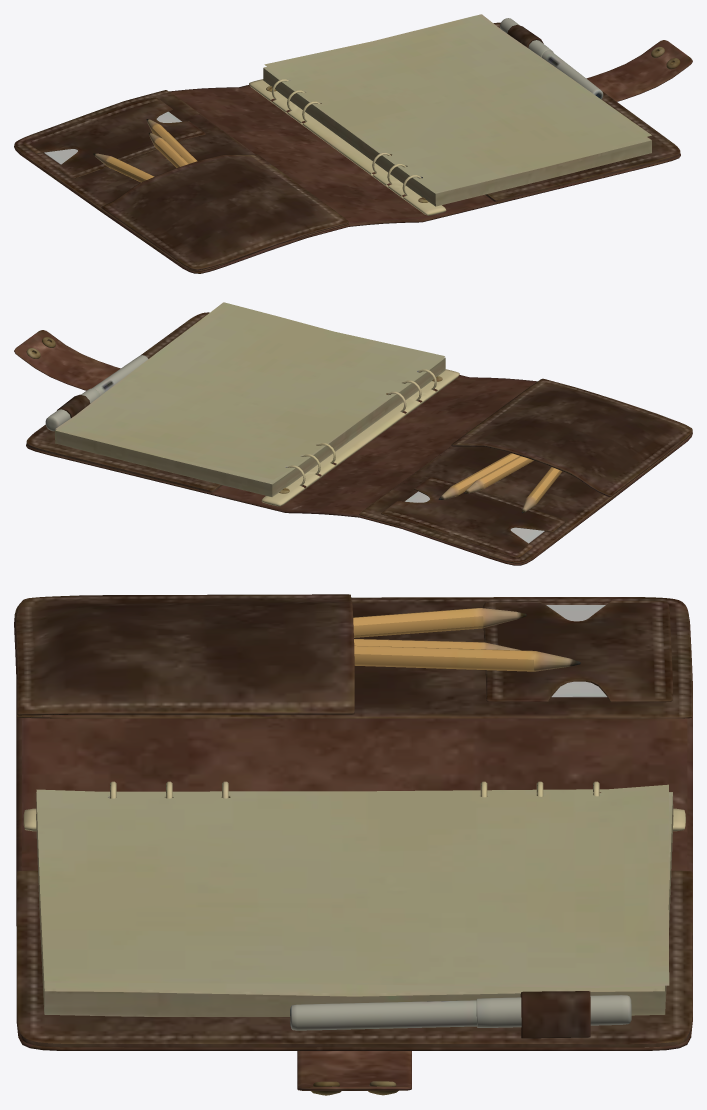
The model's file is journal.glb.
The picture shows the model from 3 angles, top to bottom: view 1: azimuth 30°, elevation 25°; view 2: azimuth 150°, elevation 25°; view 3: azimuth 270°, elevation 25°; orthographic projection. The views are drawn at different scales.
Visible parts, largest first — view 1: binder_notebook; view 2: binder_notebook; view 3: binder_notebook.
Boxes of the visible parts, x1,y1,x2,y2 form: binder_notebook: (14, 14, 692, 273); binder_notebook: (14, 302, 692, 565); binder_notebook: (14, 594, 692, 1095).
Bounding box in the file's own units: 0.3652 × 0.0178 × 0.1999.
Materials: 1 (1 with a texture image).
